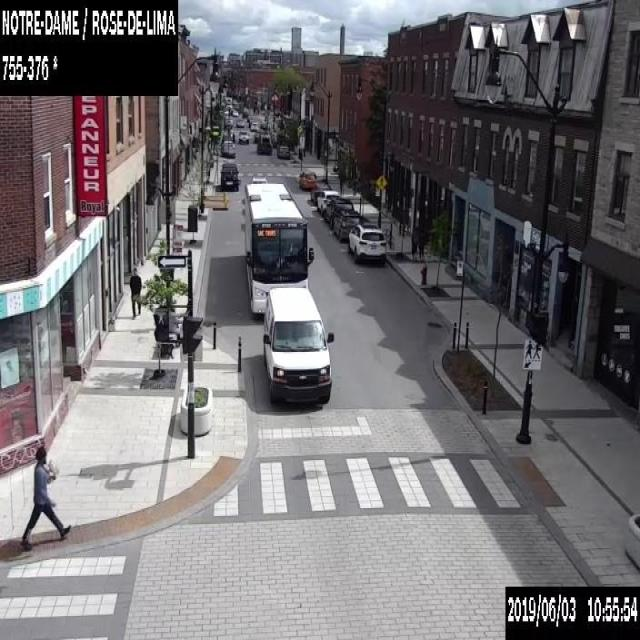bus: (244, 182, 313, 312)
pedestrian: (20, 445, 72, 552), (128, 266, 142, 318)
vehicle: (261, 286, 333, 403), (348, 224, 385, 264), (322, 197, 353, 227), (334, 210, 360, 238), (316, 190, 339, 214), (220, 162, 238, 191), (310, 182, 330, 204), (298, 170, 316, 188), (257, 133, 271, 154), (220, 140, 235, 157), (277, 145, 289, 158), (238, 130, 249, 144), (250, 176, 266, 183), (222, 130, 233, 140), (224, 117, 232, 127), (225, 96, 231, 109), (235, 118, 244, 126), (260, 120, 267, 129), (250, 122, 257, 130), (242, 108, 248, 117), (332, 163, 338, 170), (248, 119, 253, 127), (246, 115, 252, 121), (254, 132, 258, 141), (232, 110, 238, 115)
